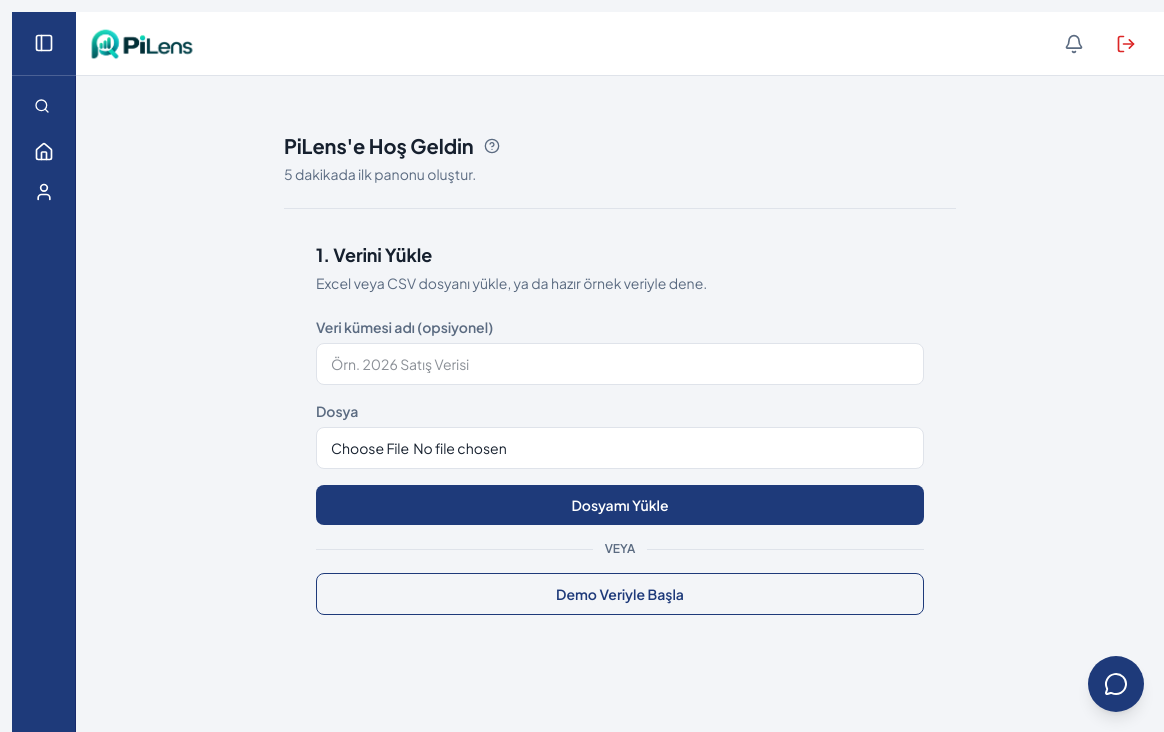
Test: OnboardingPage › ingest basarisiz olursa hata gosterir ve tekrar denenebilir
What coordinates should you click on to do the following:
click the button "Demo Veriyle Başla"
I would click on:
 (620, 594)
Its box is [316, 573, 924, 615].
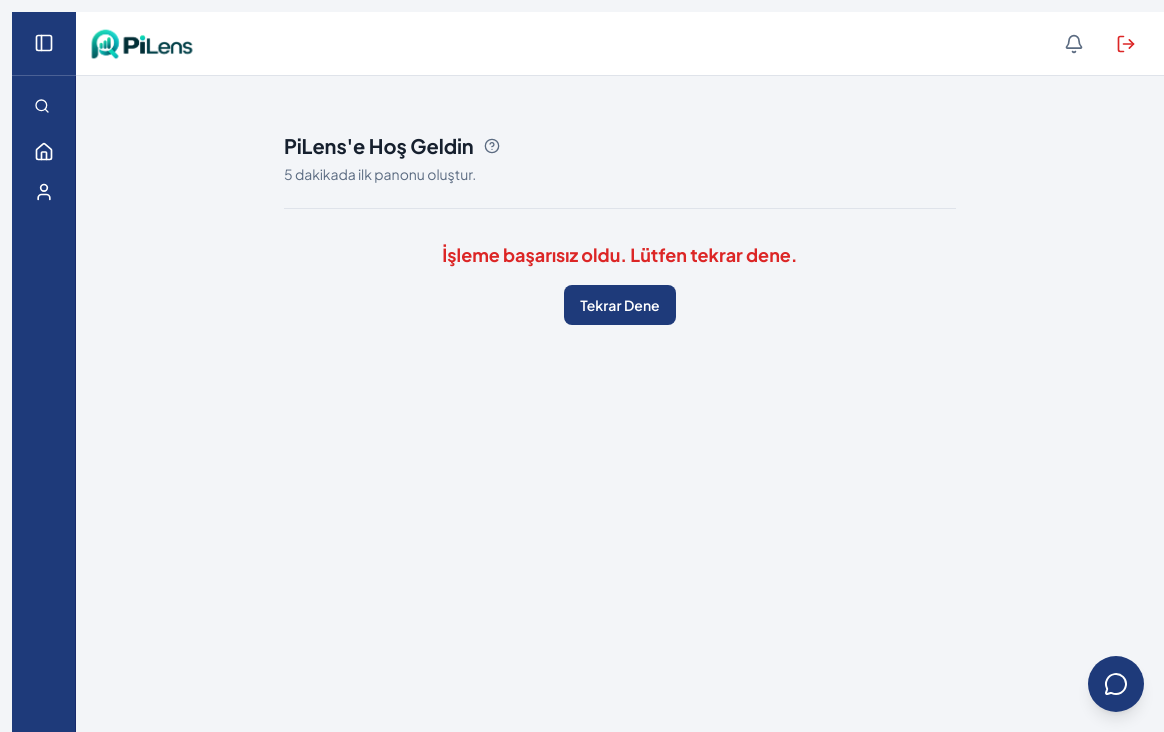
Check: the heading "İşleme başarısız oldu. Lütfen tekrar dene." is shown, box [442, 243, 798, 266]
What coordinates should you click on to do the following:
click the button "Tekrar Dene"
I would click on:
 (620, 305)
Its box is [564, 285, 676, 325].
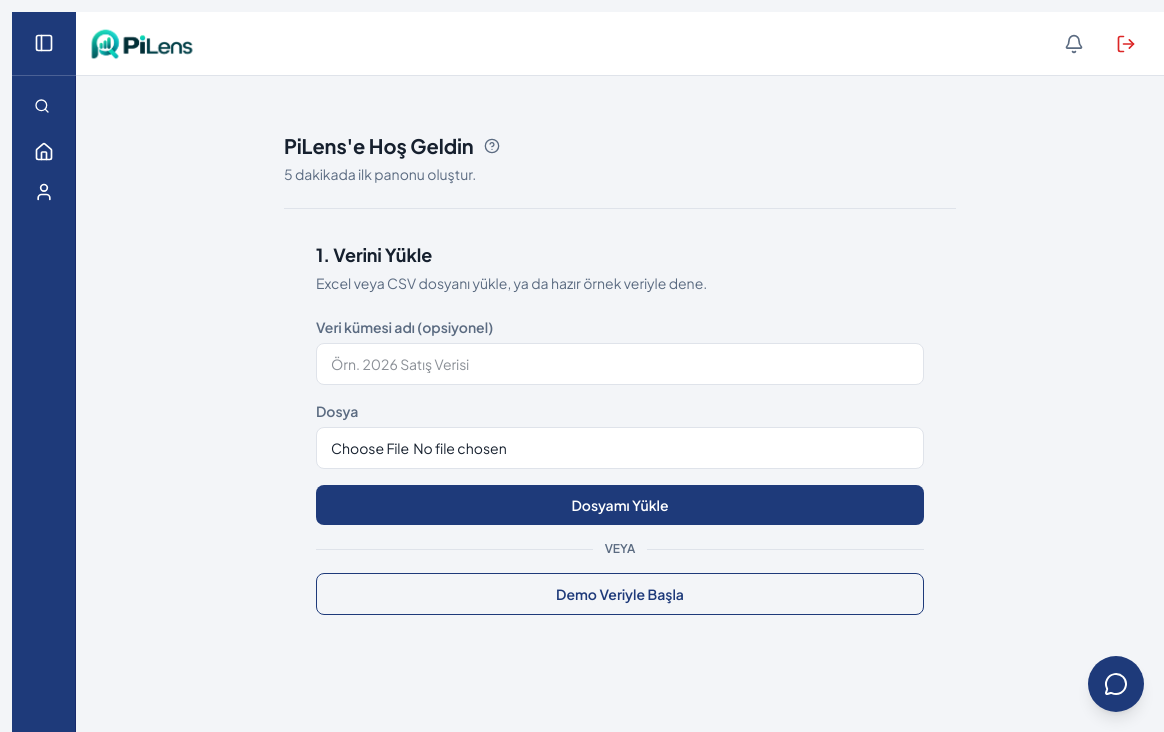
Check: the heading "1. Verini Yükle" is shown, box [316, 243, 432, 266]
